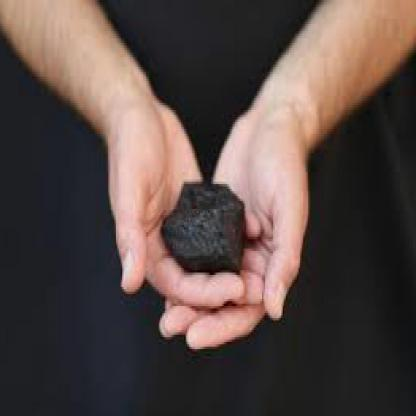Sedimentary_coal: (162, 170, 246, 270)
